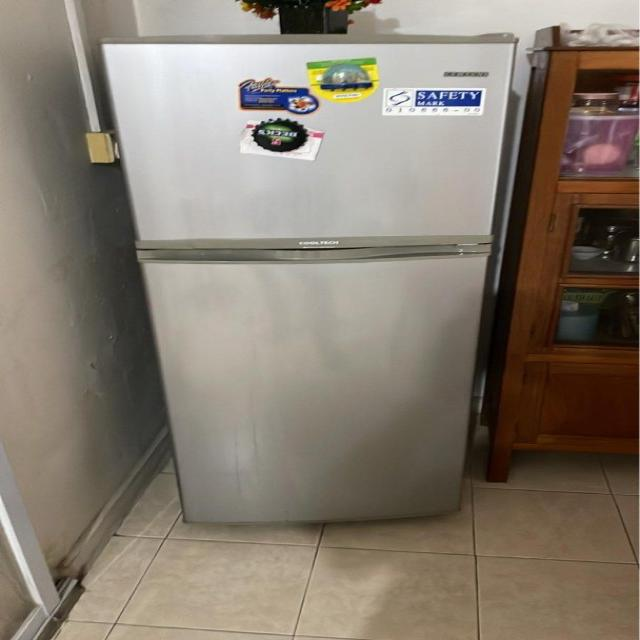refrigerator: (98, 35, 518, 531)
